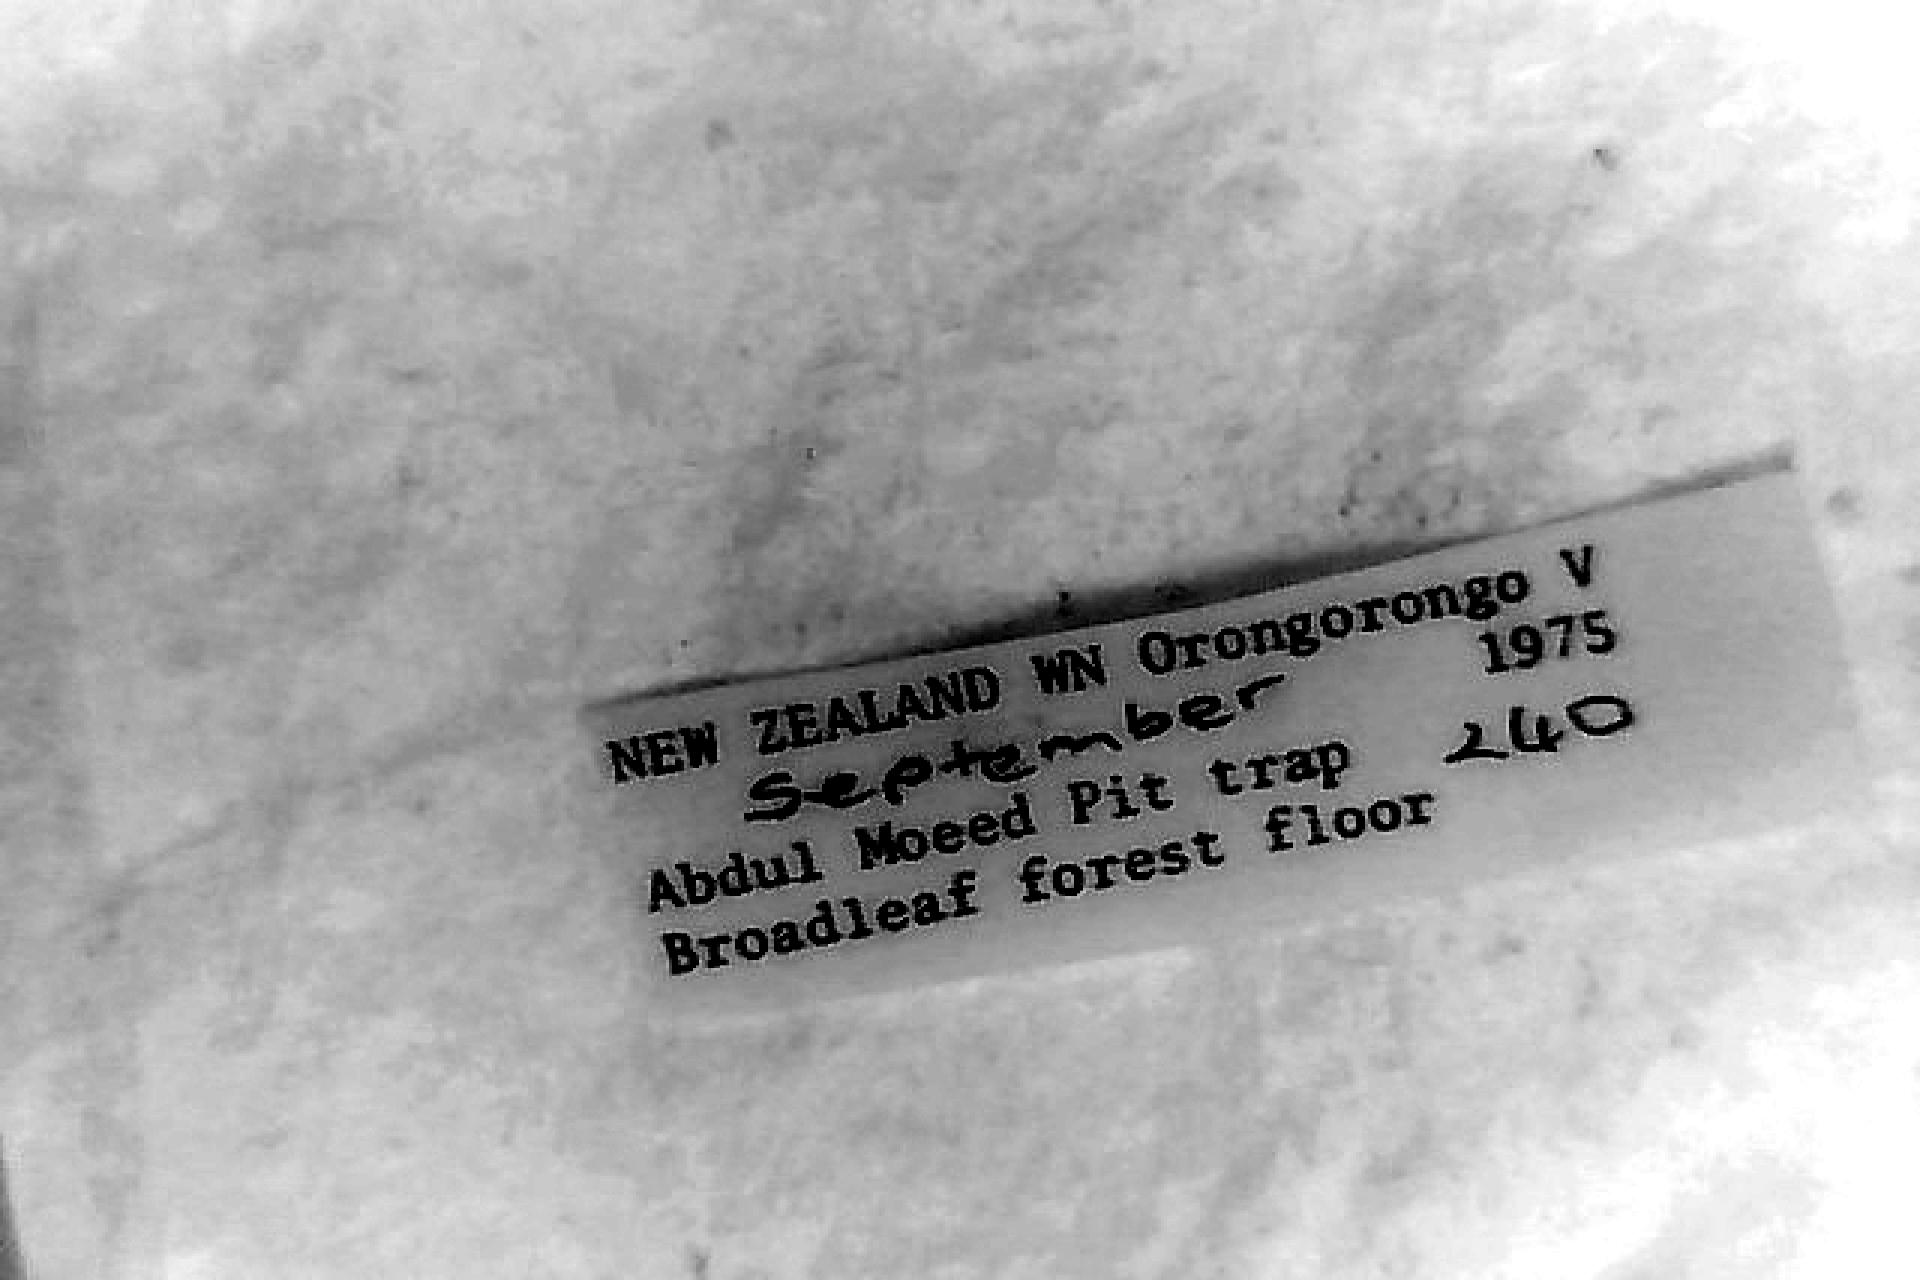mixed_label: (590, 473, 1853, 1006)
